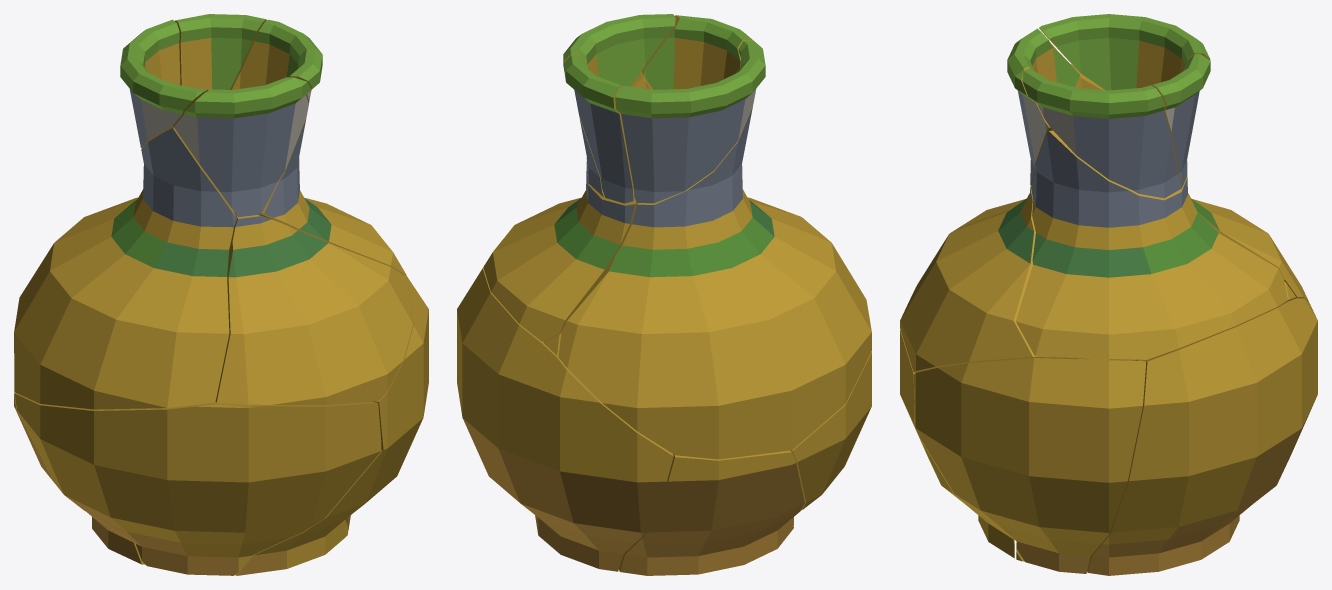
The model's file is fractured_vase_001.glb.
3 views of the same model, side by side, from view 1: azimuth 30°, elevation 25°; view 2: azimuth 150°, elevation 25°; view 3: azimuth 270°, elevation 25° (orthographic).
Parts seen in each view (by area): view 1: Vase.001_cell; view 2: Vase.001_cell; view 3: Vase.001_cell.
Part boxes in pixels (left/top/right/bottom): Vase.001_cell: left=14, top=14, right=428, bottom=575; Vase.001_cell: left=457, top=14, right=871, bottom=575; Vase.001_cell: left=900, top=14, right=1317, bottom=575.
Size of the model in its own units: 0.2028 by 0.25 by 0.2028.
